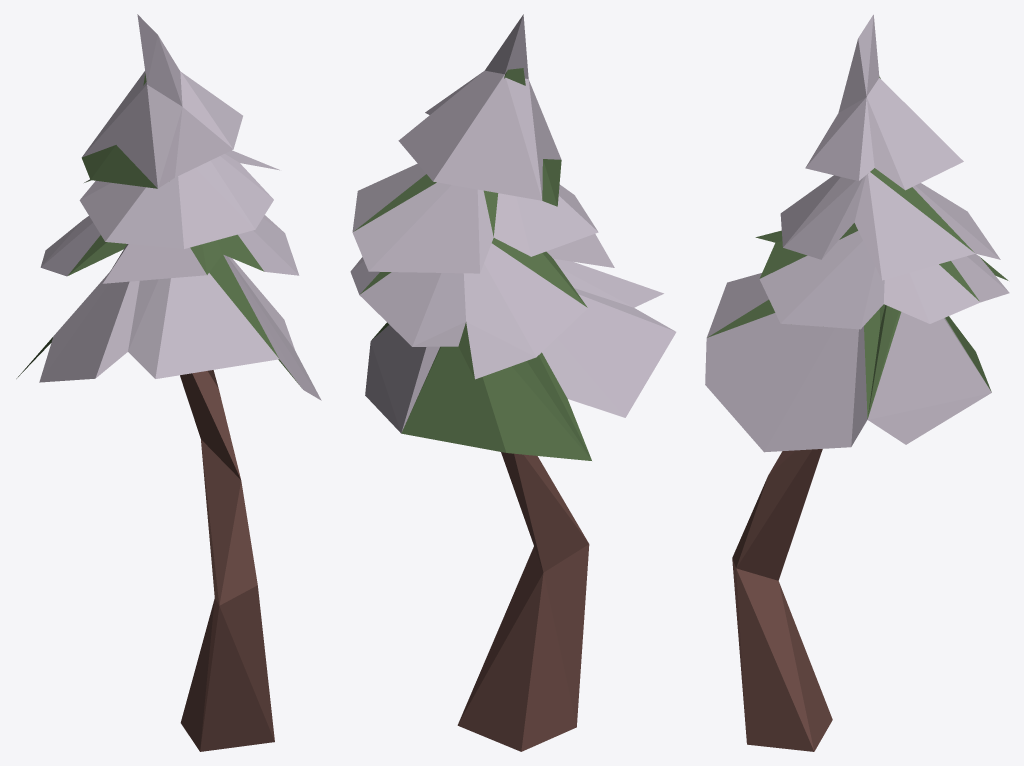
Rendered from PineTree_Snow_4.lod3.glb.
The picture shows the model from 3 angles, left to right: view 1: azimuth 30°, elevation 25°; view 2: azimuth 150°, elevation 25°; view 3: azimuth 270°, elevation 25°; orthographic projection. The views are drawn at different scales.
Visible parts, largest first — view 1: PineTree_Snow_4; view 2: PineTree_Snow_4; view 3: PineTree_Snow_4.
Boxes of the visible parts, bbox=[...] form: PineTree_Snow_4: bbox=[16, 14, 321, 751]; PineTree_Snow_4: bbox=[350, 14, 676, 751]; PineTree_Snow_4: bbox=[705, 14, 1009, 751].
Size of the model in its own units: 1.22 by 3.35 by 1.33.
